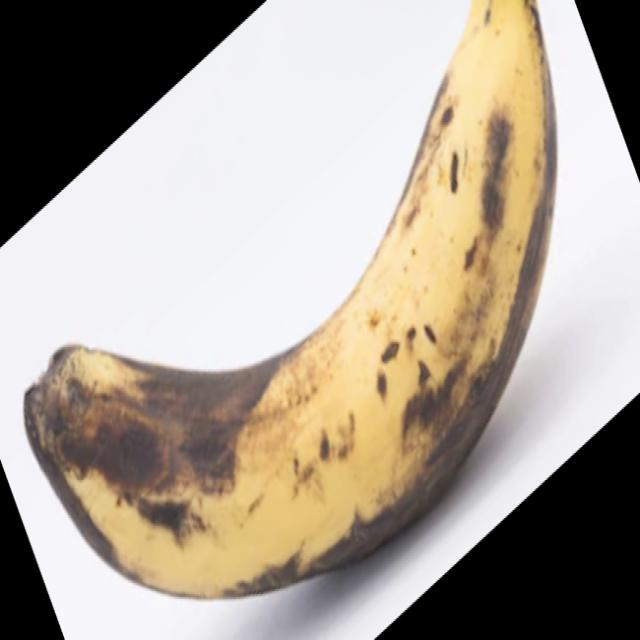overripe: (20, 0, 562, 599)
